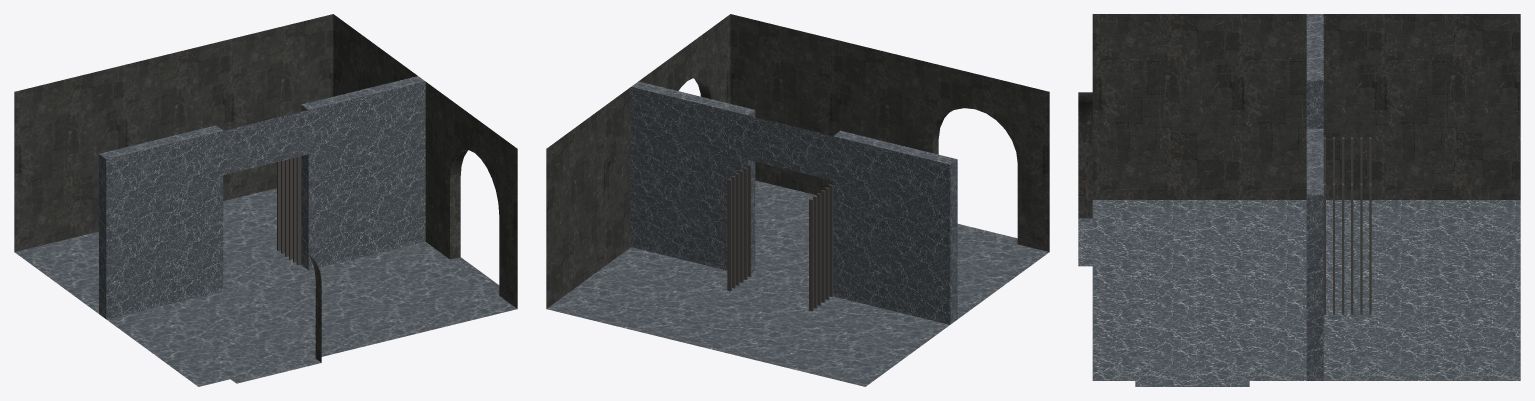
Rendered from family-mausoleum.cea7dcfc.gltf.
The picture shows the model from 3 angles, left to right: view 1: azimuth 30°, elevation 25°; view 2: azimuth 150°, elevation 25°; view 3: azimuth 270°, elevation 25°; orthographic projection. The views are drawn at different scales.
Visible parts, largest first — view 1: family-mausoleum-mesh, family-mausoleum-props; view 2: family-mausoleum-mesh, family-mausoleum-props; view 3: family-mausoleum-mesh, family-mausoleum-props.
Part boxes in pixels (x1,y1,x2,y2): family-mausoleum-mesh: [14, 14, 517, 386]; family-mausoleum-props: [277, 156, 301, 265]; family-mausoleum-mesh: [546, 14, 1049, 386]; family-mausoleum-props: [727, 164, 833, 311]; family-mausoleum-mesh: [1078, 14, 1520, 386]; family-mausoleum-props: [1323, 137, 1371, 314].
Bounding box in the file's own units: 7.75 × 3.6 × 7.75.
Materials: 3 (2 with a texture image).
